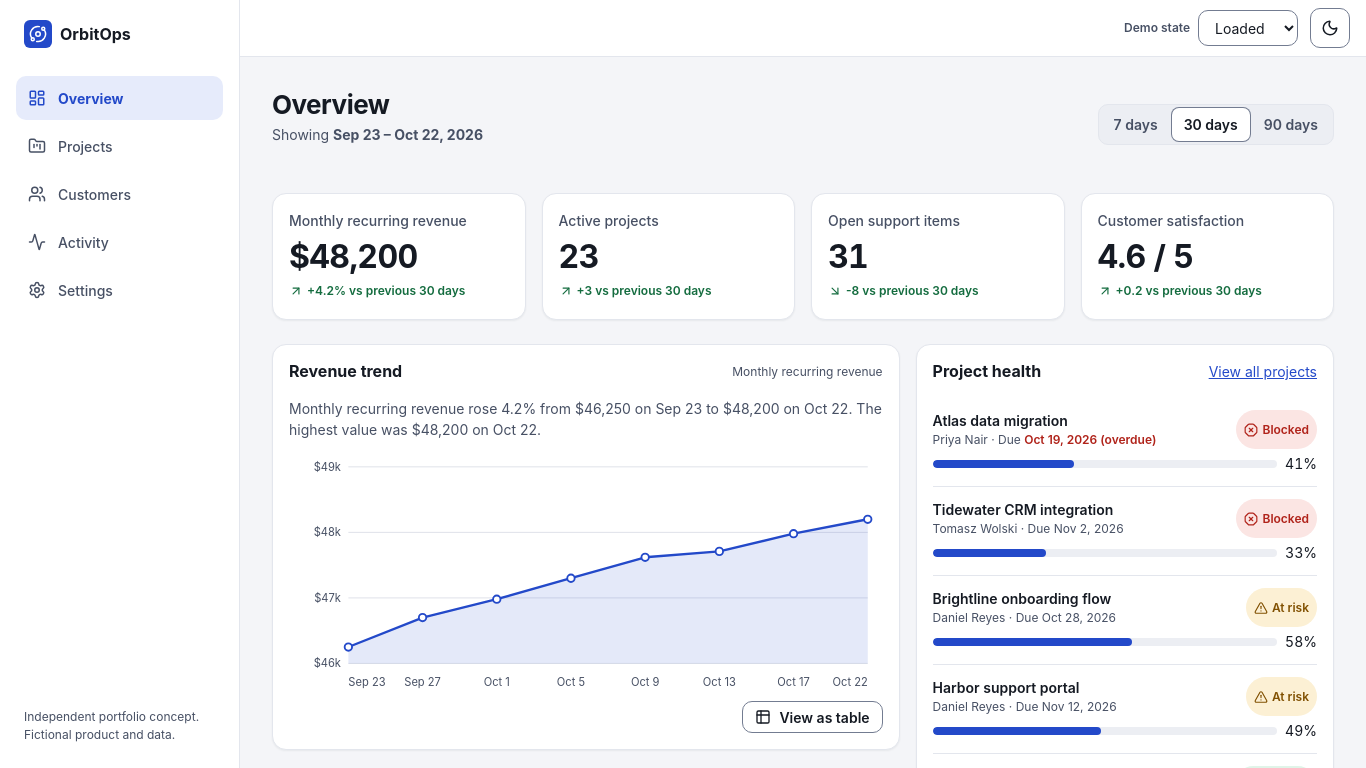
navigation › navigates between routes
Click the link "Customers": [79, 194] box [28,185,131,203]
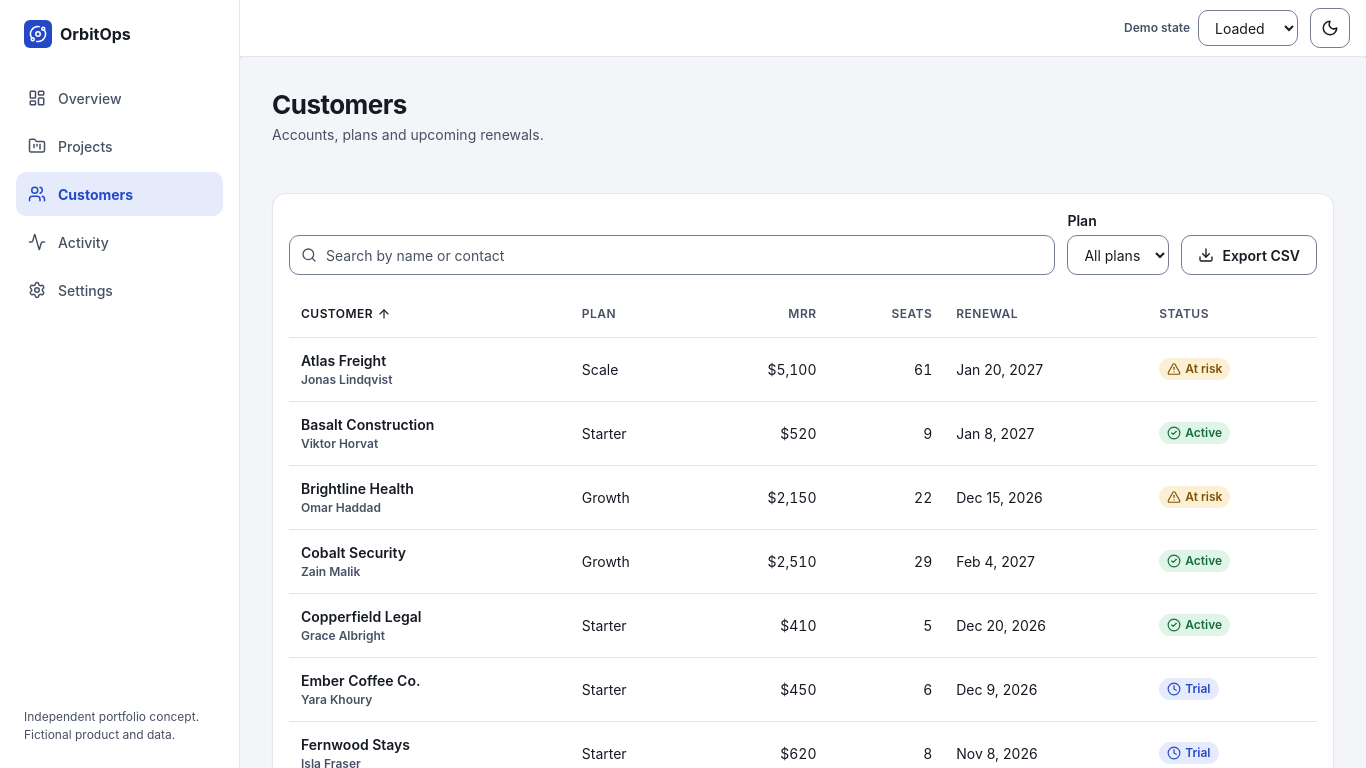
Expected: the heading "Customers" is shown, [272,89,407,120]
